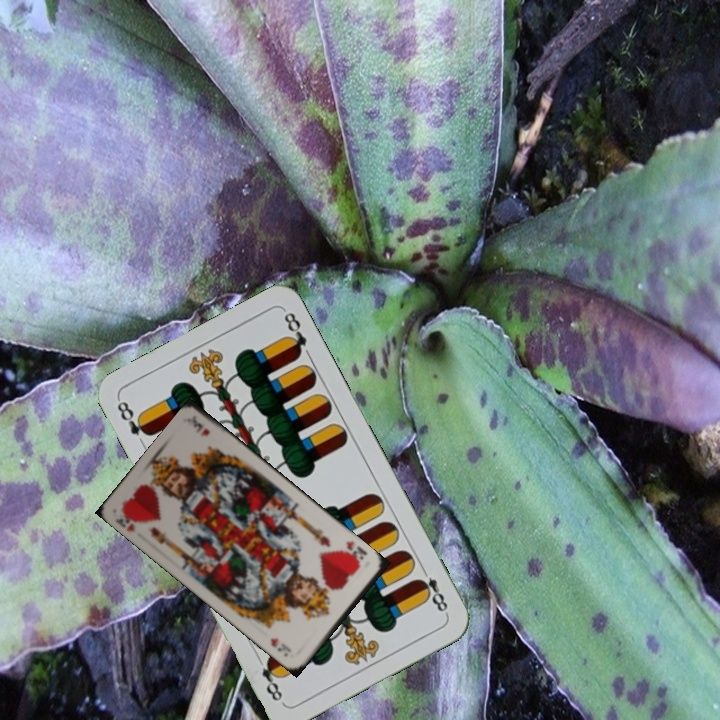E8: (413, 562, 451, 617), (113, 396, 154, 439)
HK: (337, 537, 370, 568), (111, 509, 144, 534)
